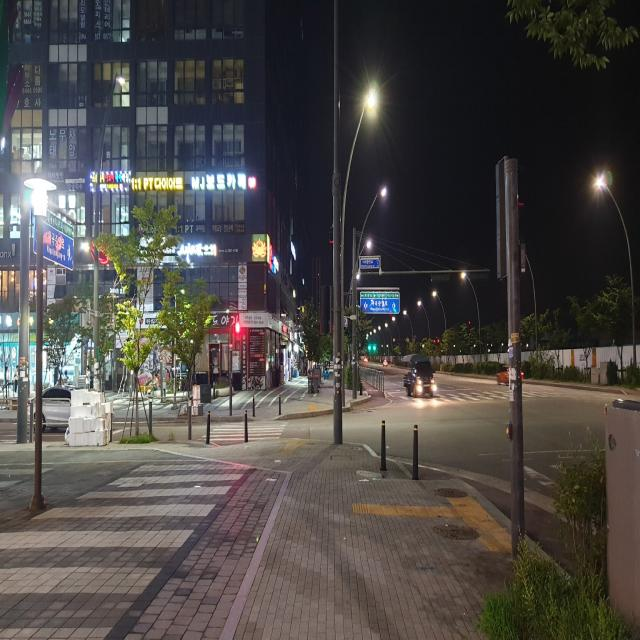빨간불: (232, 320, 242, 353)
횡단보도: (197, 421, 290, 441)
